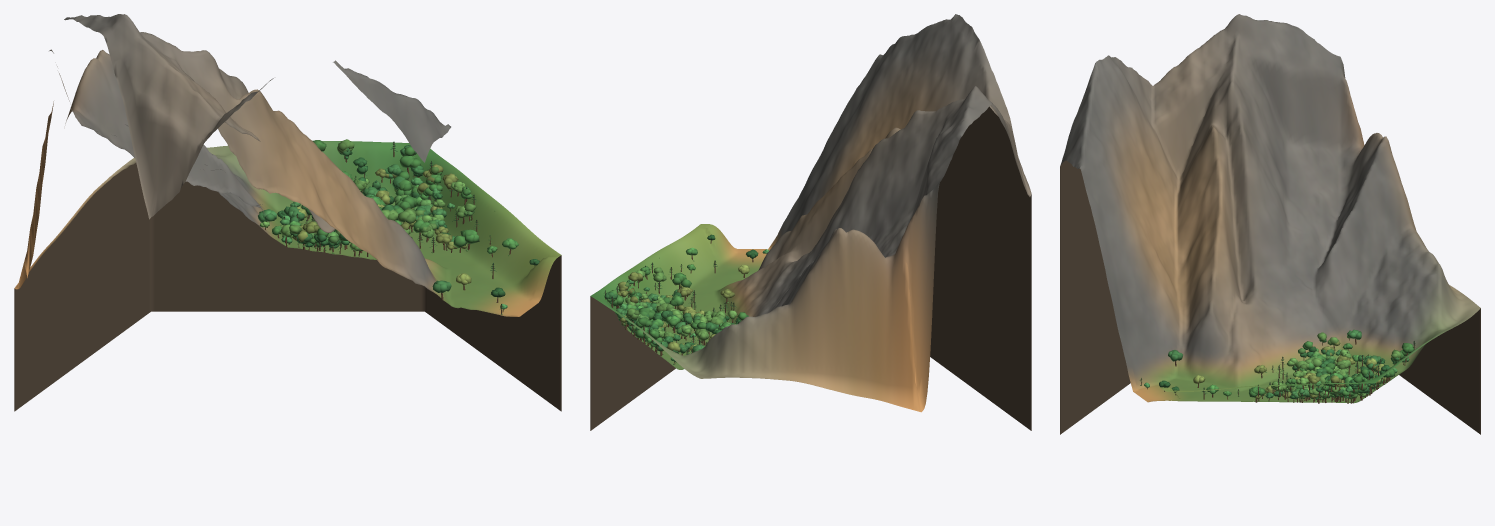
The picture shows the model from 3 angles, left to right: view 1: azimuth 30°, elevation 25°; view 2: azimuth 150°, elevation 25°; view 3: azimuth 270°, elevation 25°; orthographic projection. The views are drawn at different scales.
Parts seen in each view (by area): view 1: terrain, hex_side_cut, F_S2_broadleaf_canopy, F_S_broadleaf_canopy; view 2: terrain, hex_side_cut, F_S2_broadleaf_canopy, F_S_broadleaf_canopy; view 3: terrain, hex_side_cut, F_S2_broadleaf_canopy, F_S_broadleaf_canopy, F_S2_trunks.
Part boxes in pixels (x1=…): terrain: x1=14, y1=14, x2=561, y2=316; hex_side_cut: x1=14, y1=163, x2=561, y2=411; F_S2_broadleaf_canopy: x1=308, y1=145, x2=539, y2=309; F_S_broadleaf_canopy: x1=258, y1=139, x2=415, y2=251; terrain: x1=591, y1=14, x2=1031, y2=412; hex_side_cut: x1=590, y1=106, x2=1031, y2=430; F_S2_broadleaf_canopy: x1=604, y1=234, x2=768, y2=336; F_S_broadleaf_canopy: x1=607, y1=298, x2=748, y2=362; terrain: x1=1060, y1=14, x2=1480, y2=402; hex_side_cut: x1=1060, y1=160, x2=1480, y2=434; F_S2_broadleaf_canopy: x1=1144, y1=348, x2=1375, y2=400; F_S_broadleaf_canopy: x1=1287, y1=329, x2=1414, y2=399; F_S2_trunks: x1=1141, y1=357, x2=1378, y2=403.
Size of the model in its own units: 4330 by 4612 by 5000.
